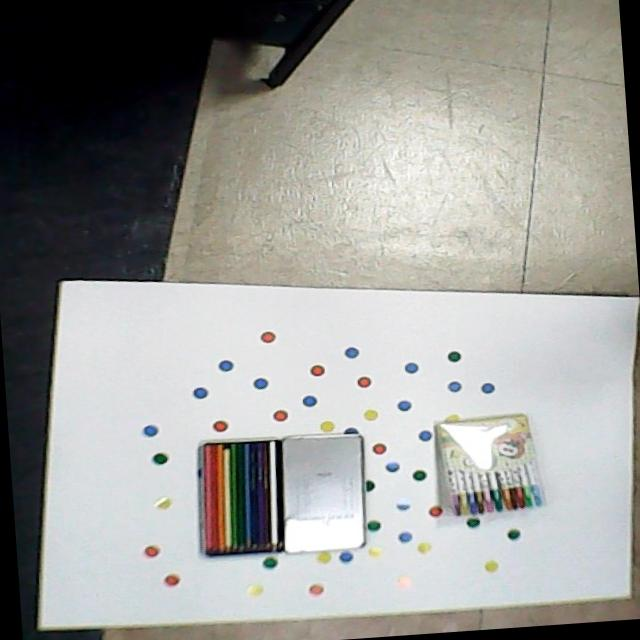color: (194, 435, 292, 563)
signpen: (419, 400, 553, 528)
